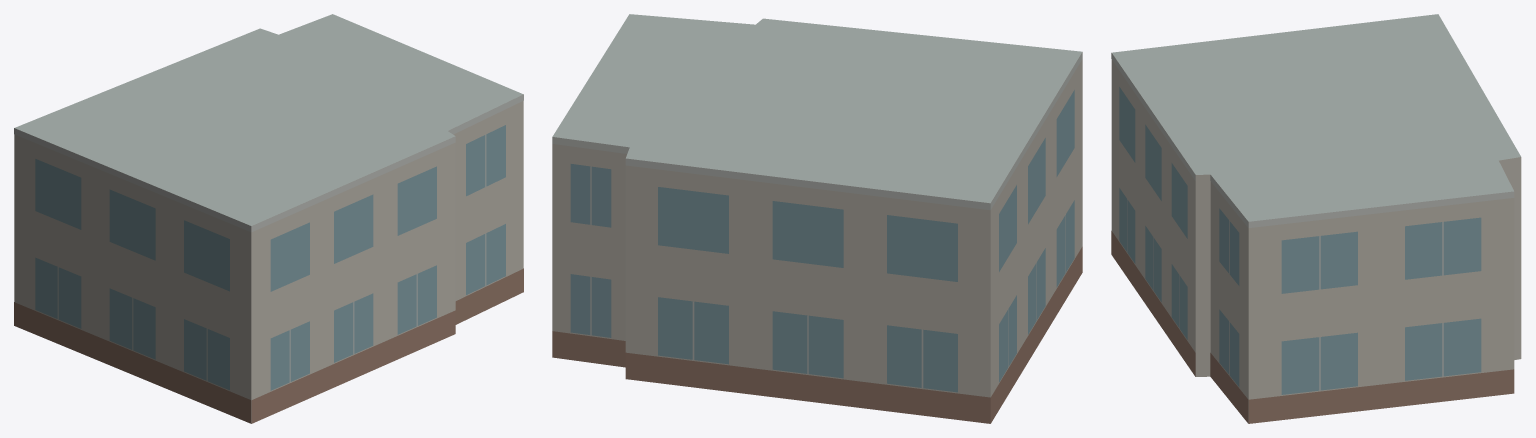
Rendered from survey-upis-32624080.glb.
3 views of the same model, side by side, from view 1: azimuth 30°, elevation 25°; view 2: azimuth 150°, elevation 25°; view 3: azimuth 270°, elevation 25° (orthographic). The views are drawn at different scales.
Visible parts, largest first — view 1: survey-upis-32624080.tmp; view 2: survey-upis-32624080.tmp; view 3: survey-upis-32624080.tmp.
Part boxes in pixels (left/top/right/bottom): survey-upis-32624080.tmp: left=14, top=14, right=523, bottom=423; survey-upis-32624080.tmp: left=552, top=14, right=1082, bottom=423; survey-upis-32624080.tmp: left=1111, top=14, right=1521, bottom=423.
Bounding box in the file's own units: 16.99 × 7.7 × 14.16.
